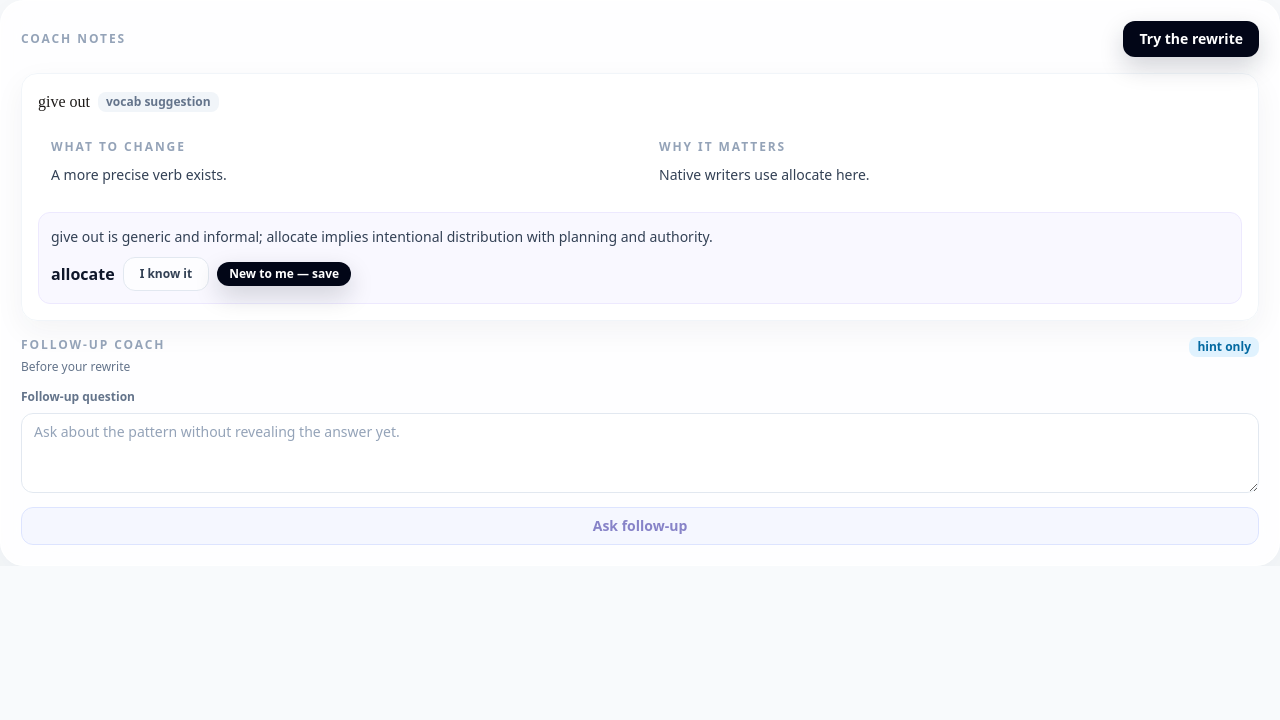
Test: shows distinction text and inline save buttons for vocab_suggestion; saves on "New to me"
Check: the text "give out is generic and informal" is shown, box [51, 227, 713, 246]
Check: the button "I know it" is shown, box [123, 257, 209, 291]
click save
Click the button "New to me — save": (284,274) [217, 262, 351, 286]
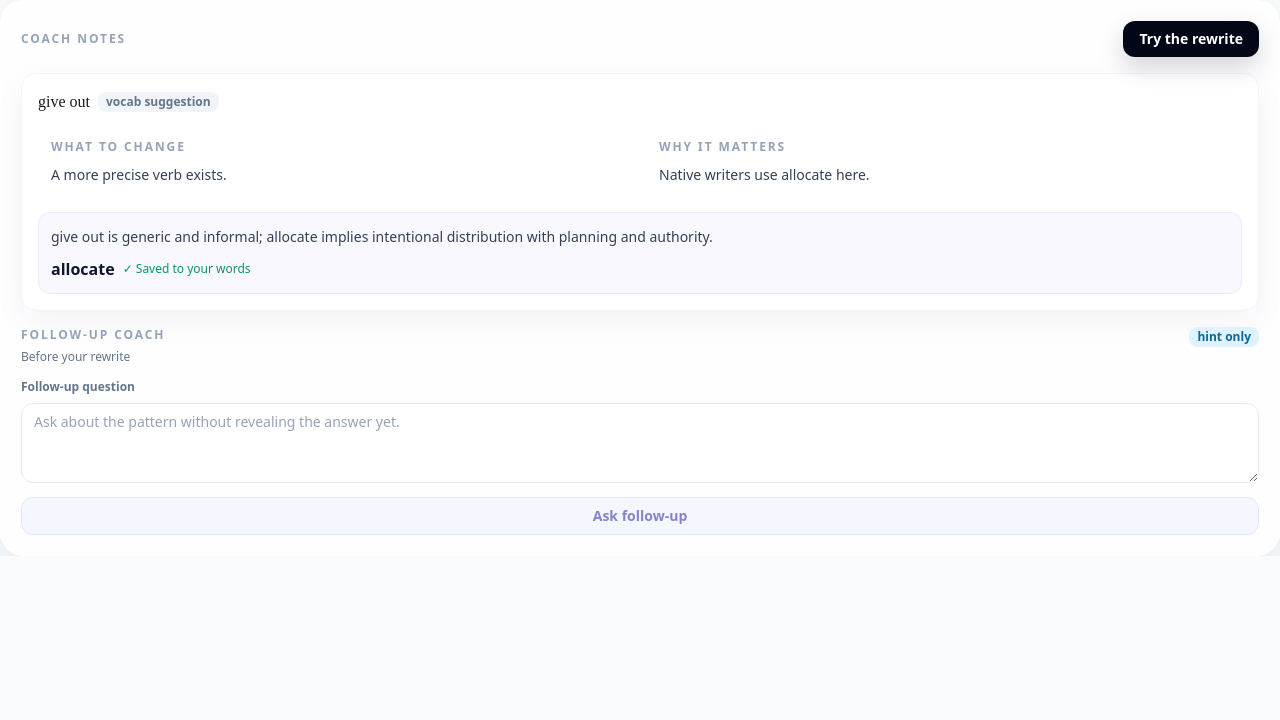
Check: the text "allocate" is shown, box [51, 257, 115, 281]
Check: the text "✓ Saved to your words" is shown, box [123, 261, 251, 277]
Check: the button "New to me — save" is gone
